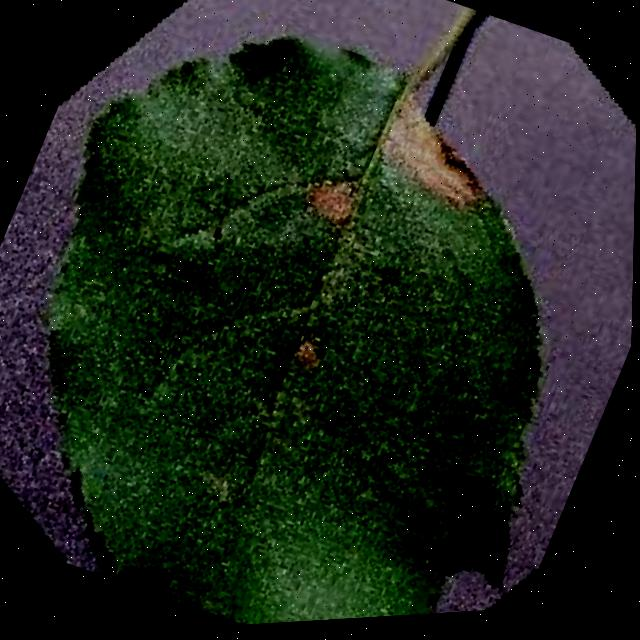black_rot: (335, 67, 523, 238), (284, 146, 387, 254), (271, 327, 333, 402)
